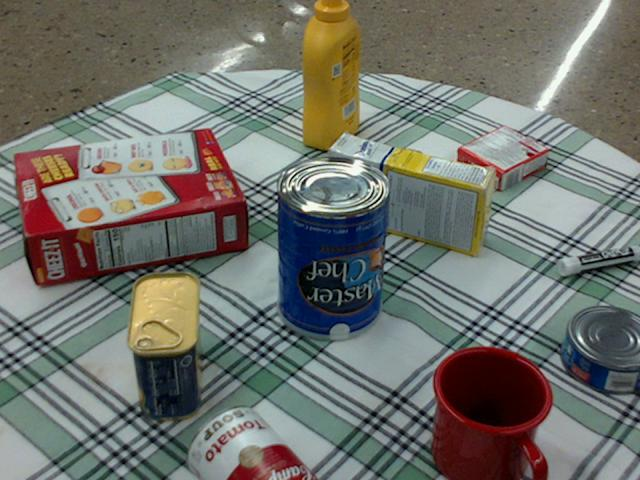cracker_box: (14, 129, 244, 284)
gelatin_box: (455, 125, 548, 191)
large_marker: (558, 245, 639, 274)
master_chef_can: (277, 155, 391, 338)
mug: (430, 346, 551, 479)
mustard_bottle: (301, 0, 359, 148)
potted_meat_can: (127, 271, 201, 419)
sugar_box: (326, 134, 496, 256)
tomato_soup_can: (187, 406, 314, 479)
tuna_fish_can: (562, 306, 639, 393)
